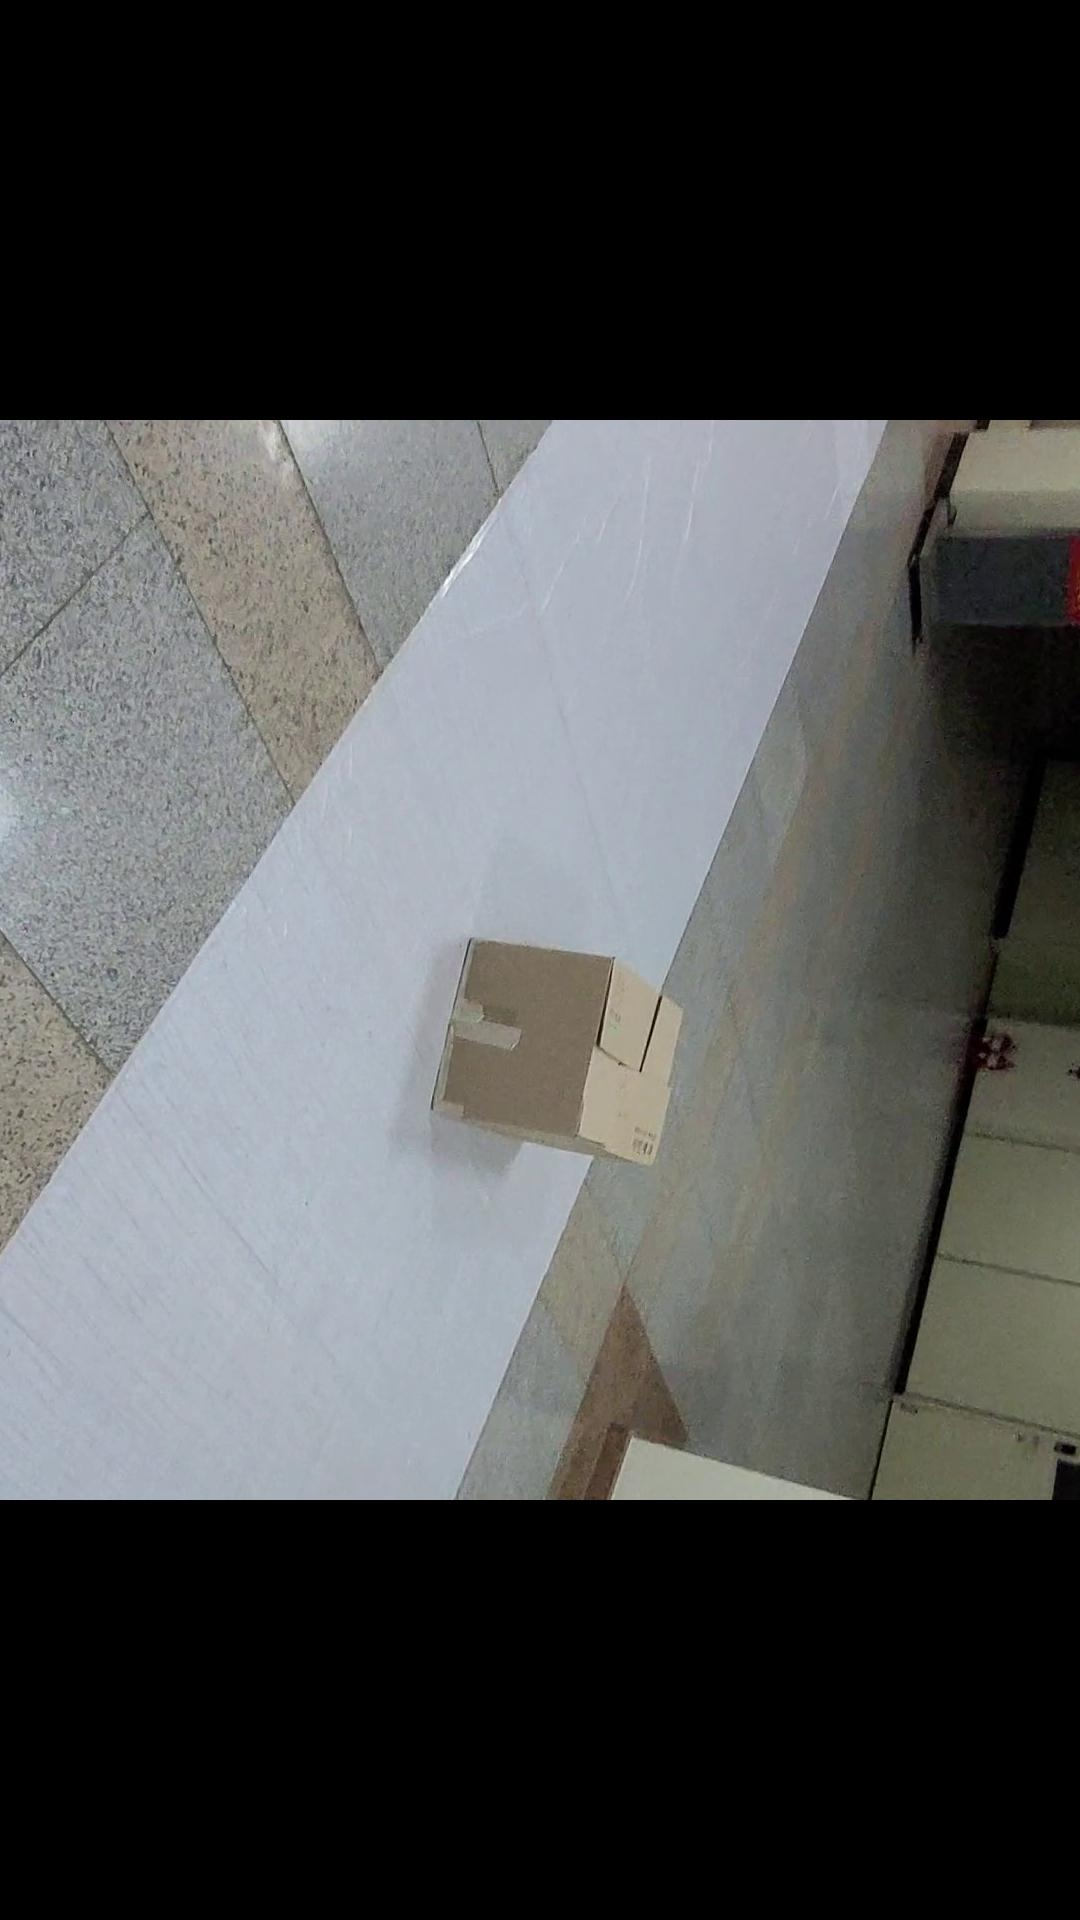Box: (415, 898, 712, 1203)
